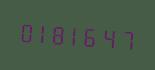eight: (51, 18, 67, 49)
four: (102, 21, 118, 52)
one: (34, 17, 50, 48), (68, 19, 84, 50)
seven: (119, 22, 135, 54)
six: (85, 20, 101, 51)
zero: (17, 15, 33, 46)
